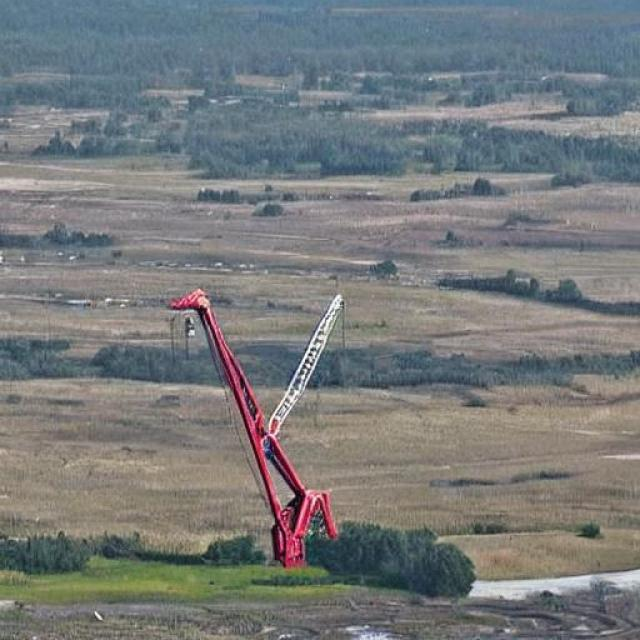crane: (0, 0, 360, 562)
